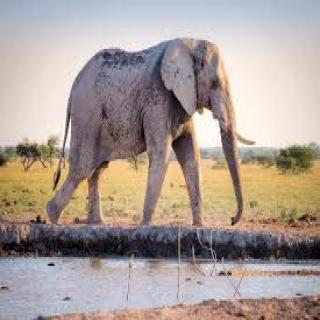Elephant: (38, 31, 254, 245)
